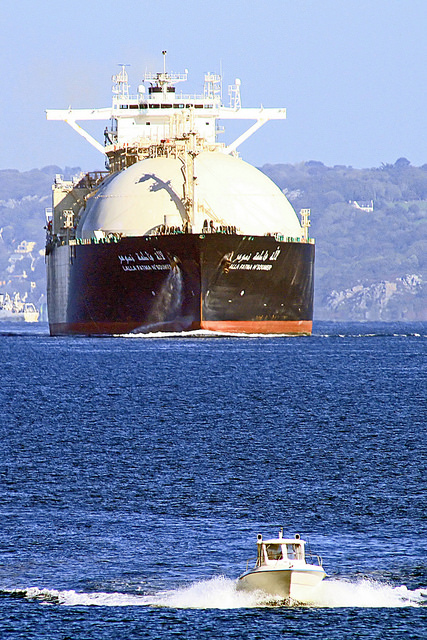LNG_ship: (46, 49, 319, 347)
boat: (230, 529, 340, 616)
